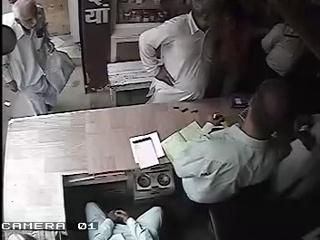Normal: (163, 79, 296, 204), (138, 0, 224, 104), (4, 0, 56, 118), (85, 202, 163, 240)
